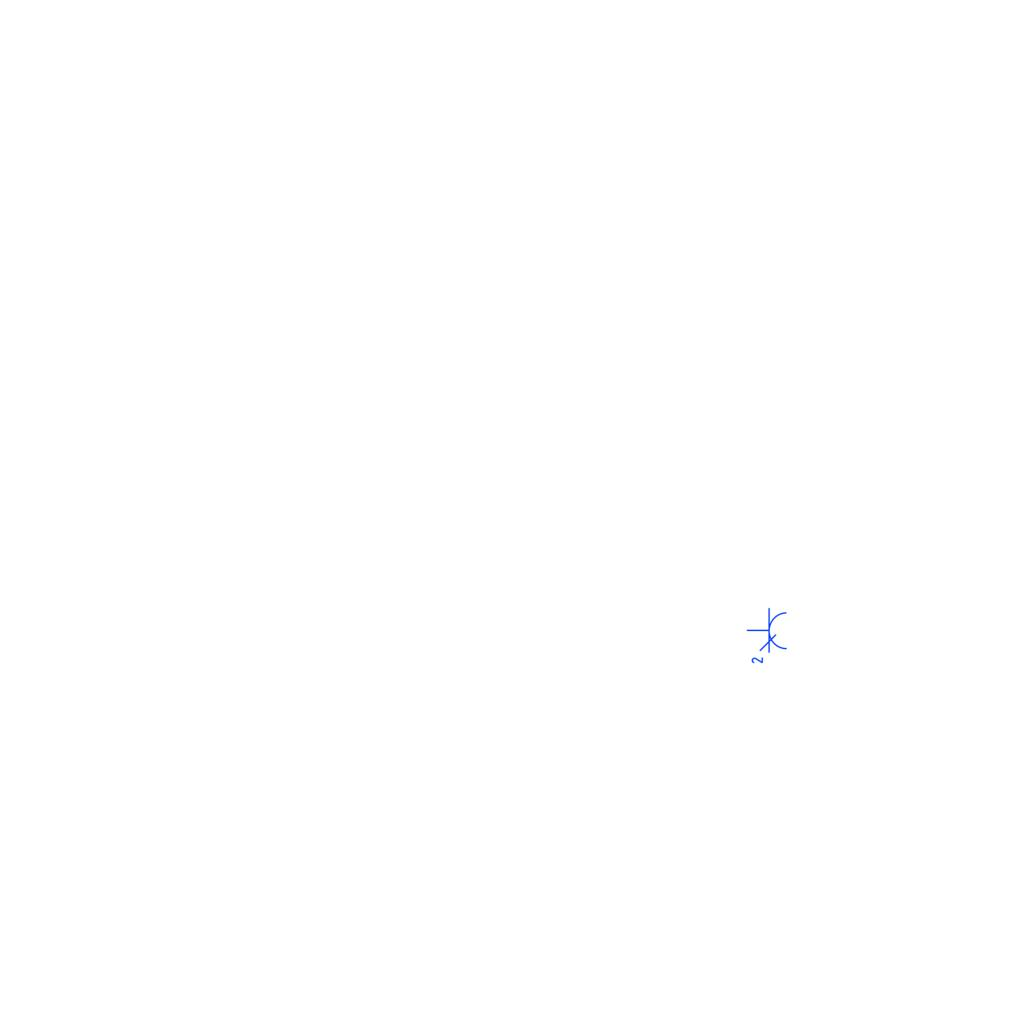Schukosteckdose_mehrfach: (746, 607, 790, 667)
